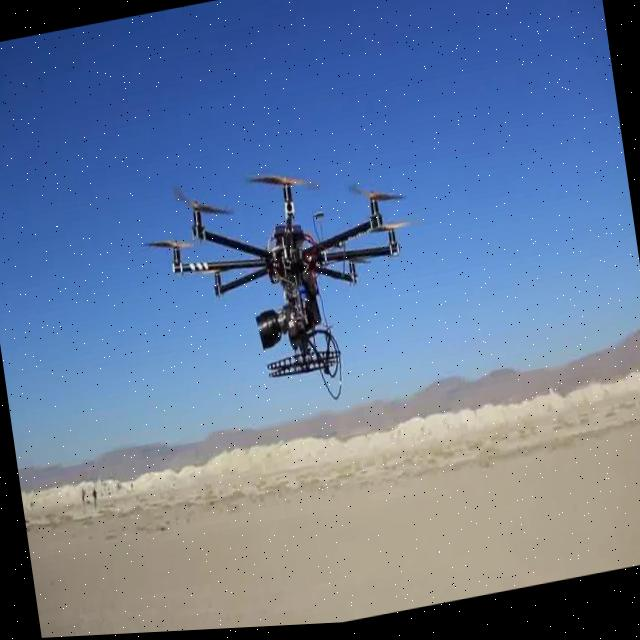drone: (154, 145, 426, 404)
